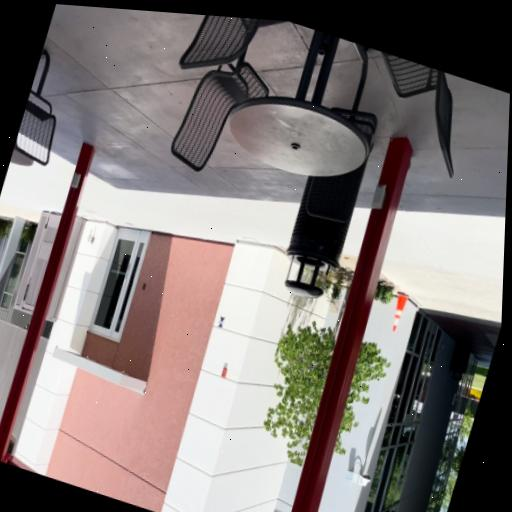target9: (217, 316, 225, 329)
